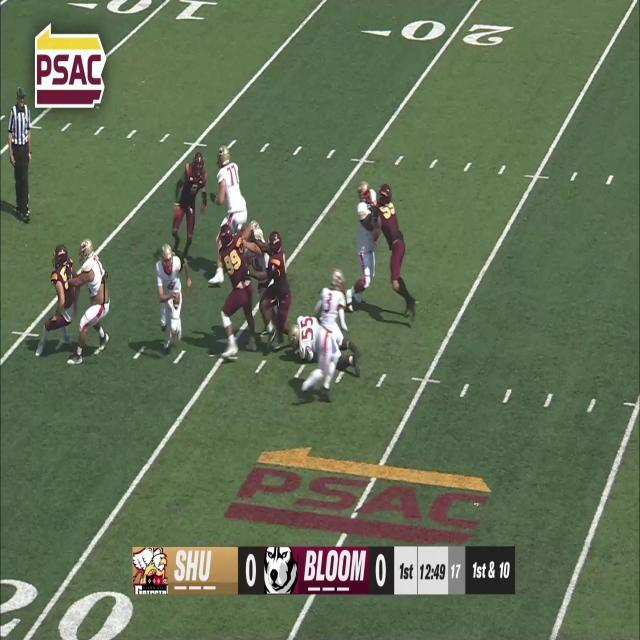football: (170, 287, 180, 312)
